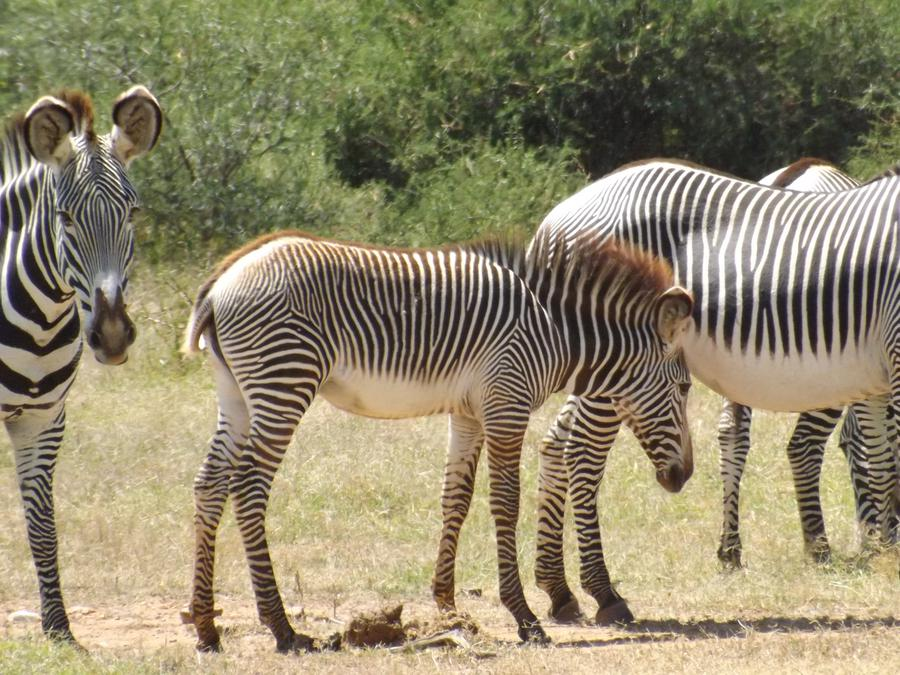zebra_grevys: (196, 216, 545, 417)
